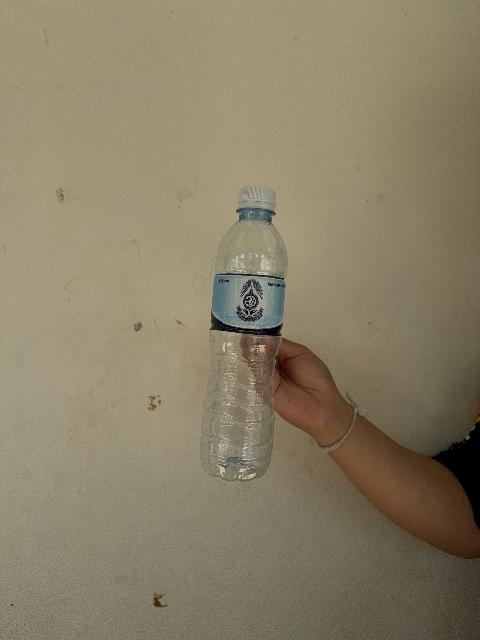bottle: (201, 187, 287, 480)
